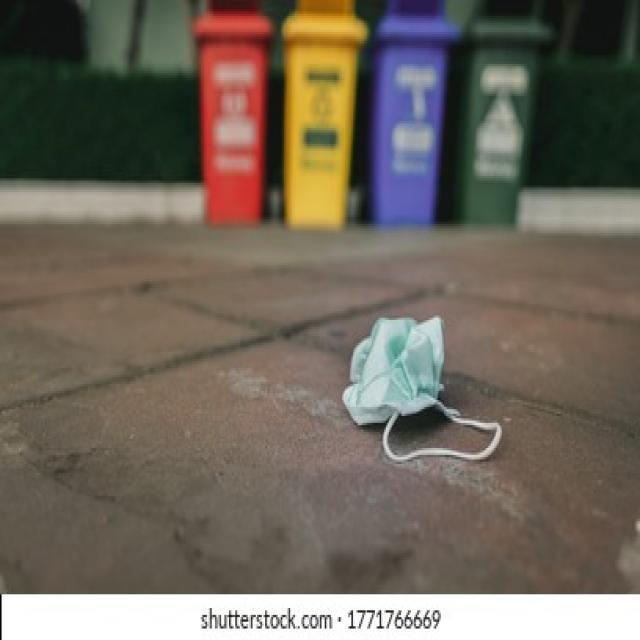face mask: (340, 304, 514, 487)
